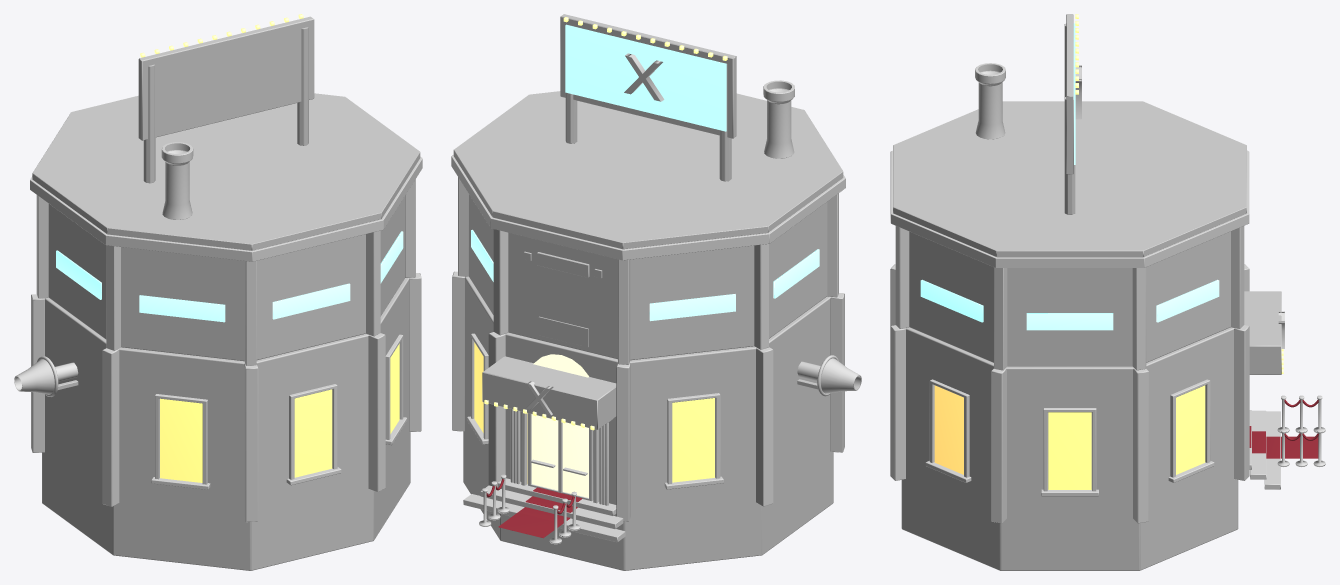
The picture shows the model from 3 angles, left to right: view 1: azimuth 30°, elevation 25°; view 2: azimuth 150°, elevation 25°; view 3: azimuth 270°, elevation 25°; orthographic projection. The views are drawn at different scales.
Parts seen in each view (by area): view 1: ground__iron_decay, crown__iron_decay, floor__iron_decay, ground__trim_brass, ground__window_glass, floor__trim_brass, crown__trim_brass, floor__stat_board, crown__soot_iron, ground__brass_pipe; view 2: ground__iron_decay, crown__iron_decay, floor__iron_decay, ground__trim_brass, crown__stat_board, floor__trim_brass, crown__trim_brass, ground__lobby_glass, ground__window_glass, ground__stone_decay, floor__stat_board, crown__soot_iron (+2 smaller); view 3: ground__iron_decay, crown__iron_decay, floor__iron_decay, ground__trim_brass, ground__window_glass, floor__trim_brass, crown__trim_brass, floor__stat_board, crown__soot_iron, ground__stone_decay, ground__crimson_carpet.
Part boxes in pixels (<box>): ground__iron_decay: <box>42,278,410,570</box>; crown__iron_decay: <box>32,16,420,250</box>; floor__iron_decay: <box>48,195,405,361</box>; ground__trim_brass: <box>31,273,421,522</box>; ground__window_glass: <box>160,343,399,482</box>; floor__trim_brass: <box>36,179,415,365</box>; crown__trim_brass: <box>30,156,422,261</box>; floor__stat_board: <box>56,231,403,322</box>; crown__soot_iron: <box>161,142,193,219</box>; ground__brass_pipe: <box>14,356,78,396</box>; ground__iron_decay: <box>463,276,833,570</box>; crown__iron_decay: <box>453,14,843,249</box>; floor__iron_decay: <box>468,194,827,360</box>; ground__trim_brass: <box>452,271,844,544</box>; crown__stat_board: <box>565,24,726,131</box>; floor__trim_brass: <box>458,177,838,364</box>; crown__trim_brass: <box>451,155,845,260</box>; ground__lobby_glass: <box>531,354,589,497</box>; ground__window_glass: <box>474,342,714,483</box>; ground__stone_decay: <box>463,478,625,542</box>; floor__stat_board: <box>471,229,819,321</box>; crown__soot_iron: <box>763,80,794,158</box>; ground__iron_decay: <box>901,291,1281,570</box>; crown__iron_decay: <box>893,14,1246,257</box>; floor__iron_decay: <box>909,231,1230,366</box>; ground__trim_brass: <box>890,264,1325,523</box>; ground__window_glass: <box>934,385,1205,489</box>; floor__trim_brass: <box>895,226,1244,370</box>; crown__trim_brass: <box>890,150,1249,267</box>; floor__stat_board: <box>920,279,1219,330</box>; crown__soot_iron: <box>975,63,1005,139</box>; ground__stone_decay: <box>1249,410,1280,489</box>; ground__crimson_carpet: <box>1249,399,1318,458</box>.
Size of the model in its own units: 11.48 by 13.65 by 12.05.
